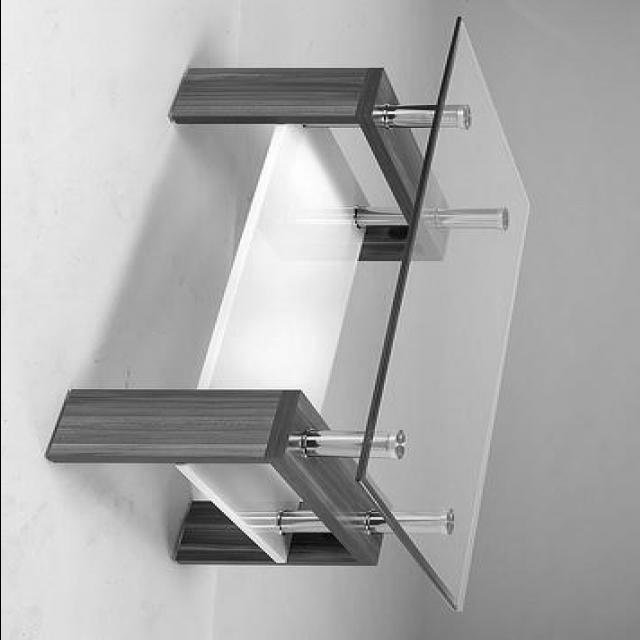table: (46, 17, 530, 610)
